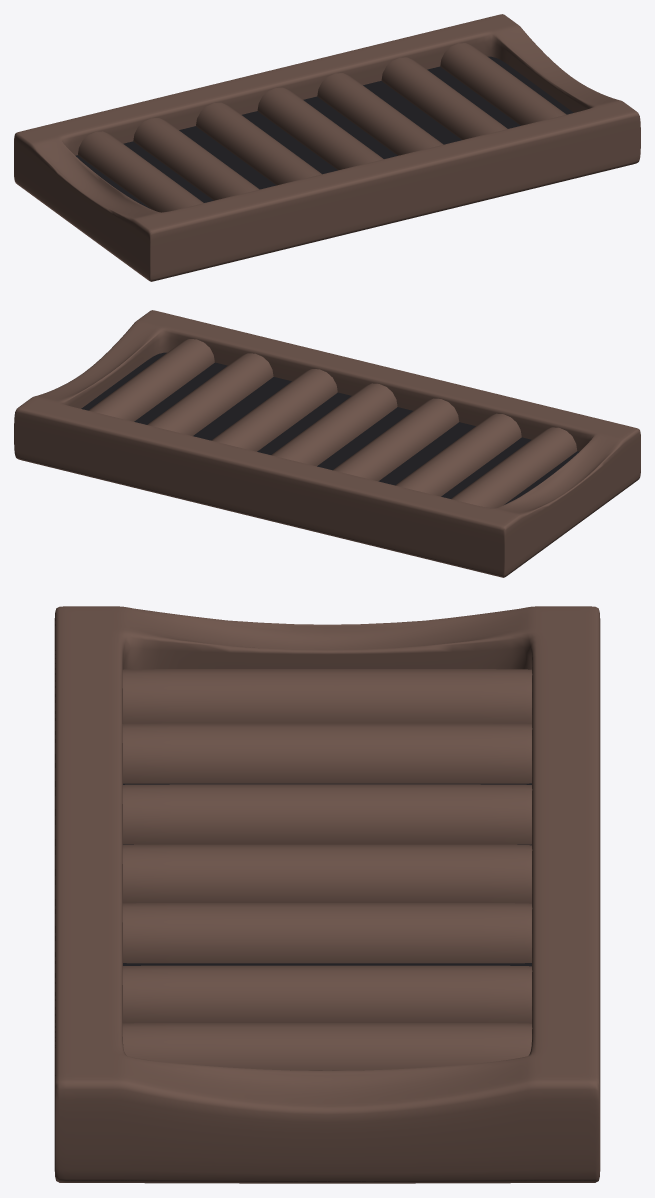
Rendered from riool.fbx.
3 views of the same model, one above another, from view 1: azimuth 30°, elevation 25°; view 2: azimuth 150°, elevation 25°; view 3: azimuth 270°, elevation 25° (orthographic). The views are drawn at different scales.
Visible parts, largest first — view 1: Cube, Plane, Cube.002, Cube.006, Cube.001, Cube.003, Cube.004, Cube.005, Cube.007; view 2: Cube, Plane, Cube.005, Cube.003, Cube.004, Cube.002, Cube.006, Cube.001, Cube.007; view 3: Cube, Cube.006, Cube.005, Cube.003, Cube.004, Cube.002, Cube.007, Cube.001, Plane.
Part boxes in pixels (box(x1,y1,x2,y2)): Cube: box(14, 14, 640, 281); Plane: box(75, 56, 573, 208); Cube.002: box(381, 57, 507, 139); Cube.006: box(133, 118, 259, 200); Cube.001: box(440, 43, 566, 125); Cube.003: box(317, 73, 443, 155); Cube.004: box(257, 87, 383, 170); Cube.005: box(196, 102, 321, 185); Cube.007: box(78, 131, 203, 212); Cube: box(14, 310, 640, 577); Plane: box(81, 352, 579, 504); Cube.005: box(333, 398, 459, 481); Cube.003: box(211, 369, 337, 451); Cube.004: box(271, 383, 397, 466); Cube.002: box(147, 353, 273, 435); Cube.006: box(395, 413, 521, 496); Cube.001: box(88, 339, 214, 421); Cube.007: box(451, 427, 577, 508); Cube: box(54, 606, 600, 1183); Cube.006: box(122, 723, 532, 783); Cube.005: box(122, 784, 532, 844); Cube.003: box(122, 903, 532, 963); Cube.004: box(122, 844, 532, 903); Cube.002: box(122, 965, 532, 1023); Cube.007: box(122, 669, 532, 723); Cube.001: box(122, 1023, 532, 1070); Plane: box(123, 783, 531, 966).
Size of the model in its own units: 198 by 20 by 95.23.
